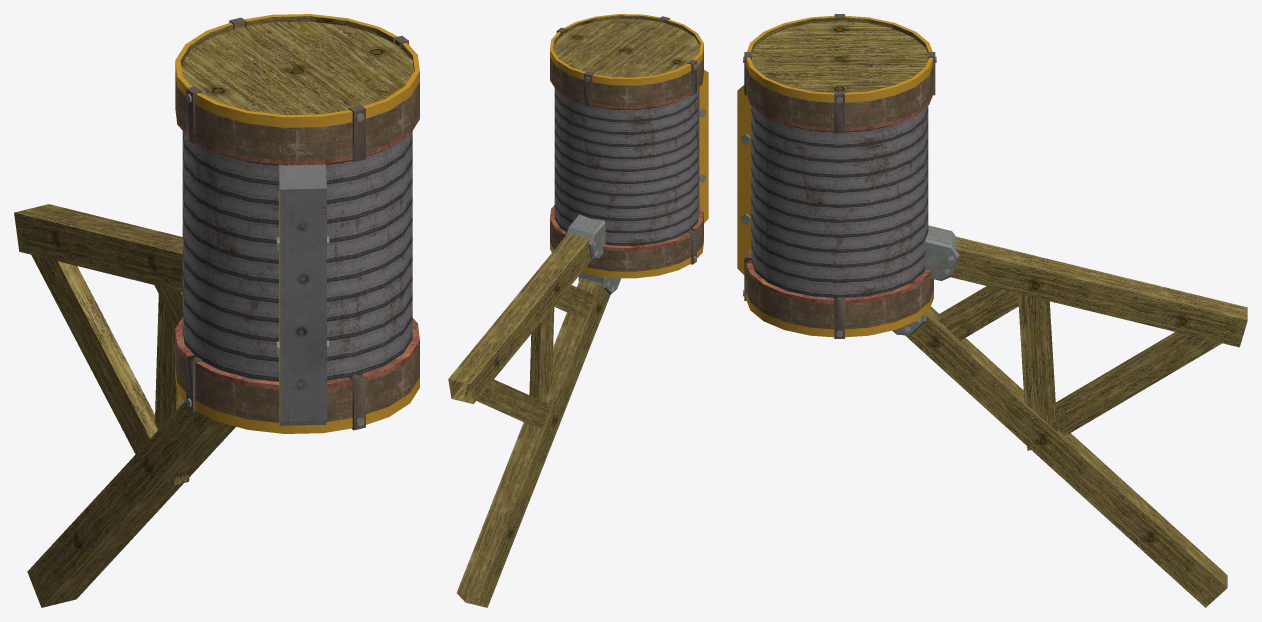
The model's file is Ob_Transformer2_RC.fbx.
3 renders of one model, left to right at view 1: azimuth 30°, elevation 25°; view 2: azimuth 150°, elevation 25°; view 3: azimuth 270°, elevation 25°, orthographic. The views are drawn at different scales.
Parts seen in each view (by area): view 1: Ob_Transformer2_RC; view 2: Ob_Transformer2_RC; view 3: Ob_Transformer2_RC.
Part boxes in pixels (x1=…): Ob_Transformer2_RC: x1=14, y1=14, x2=419, y2=607; Ob_Transformer2_RC: x1=448, y1=14, x2=708, y2=607; Ob_Transformer2_RC: x1=737, y1=14, x2=1247, y2=607.
Bounding box in the file's own units: 1219 × 3796 × 3211.
